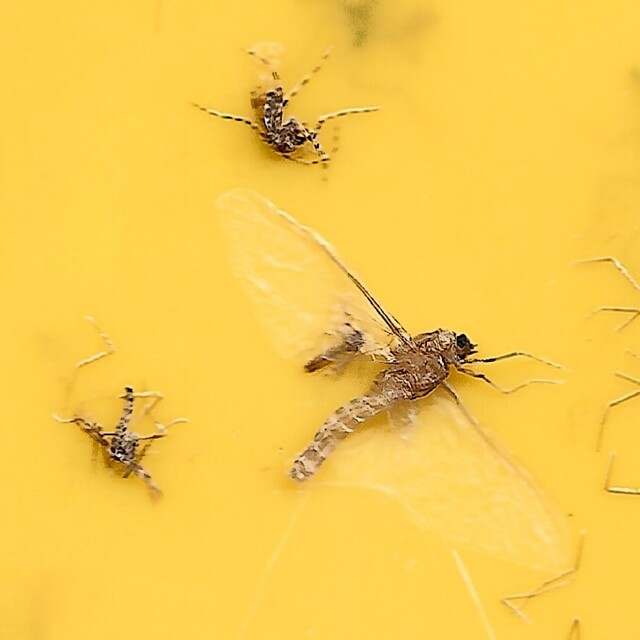Ephemeroptera: (221, 189, 565, 559)
Nematocera: (75, 386, 151, 476), (253, 81, 317, 164), (308, 325, 366, 377)
